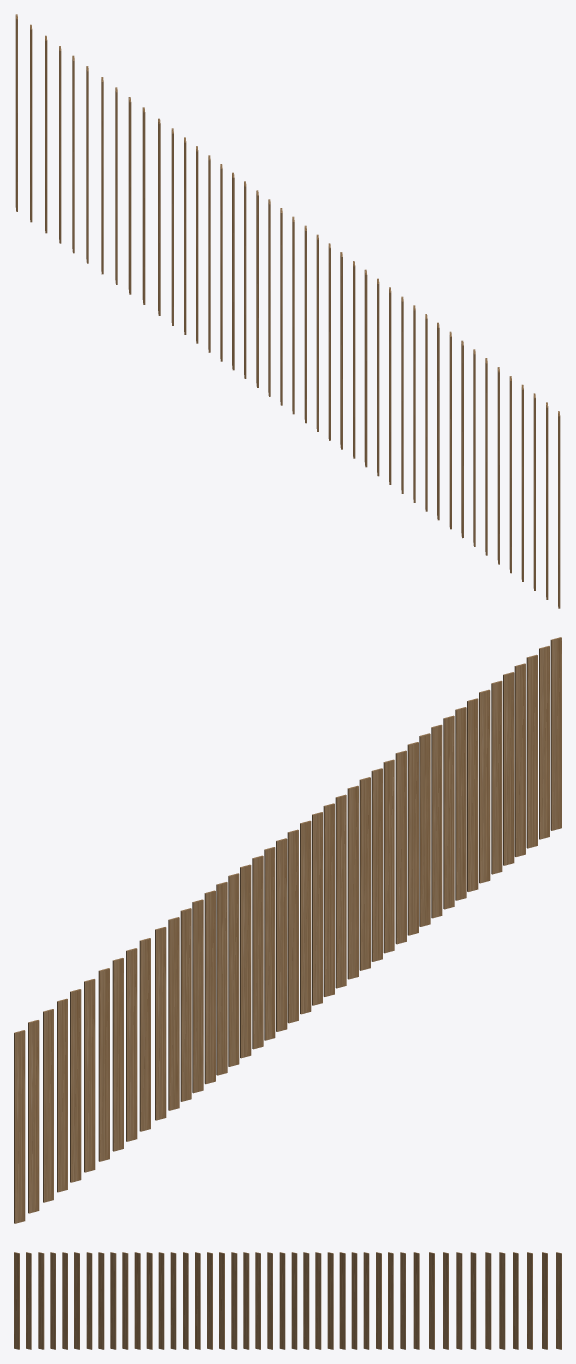
The picture shows the model from 3 angles, top to bottom: view 1: azimuth 30°, elevation 25°; view 2: azimuth 150°, elevation 25°; view 3: azimuth 270°, elevation 25°; orthographic projection. The views are drawn at different scales.
Parts seen in each view (by area): view 1: barras edificio.009; view 2: barras edificio.009; view 3: barras edificio.009.
Part boxes in pixels (box(x1,y1,x2,y2)): barras edificio.009: box(15, 14, 560, 608); barras edificio.009: box(14, 637, 561, 1223); barras edificio.009: box(14, 1252, 561, 1349).
Size of the model in its own units: 0.6074 by 17.58 by 90.73.
Materials: 1 (1 with a texture image).
